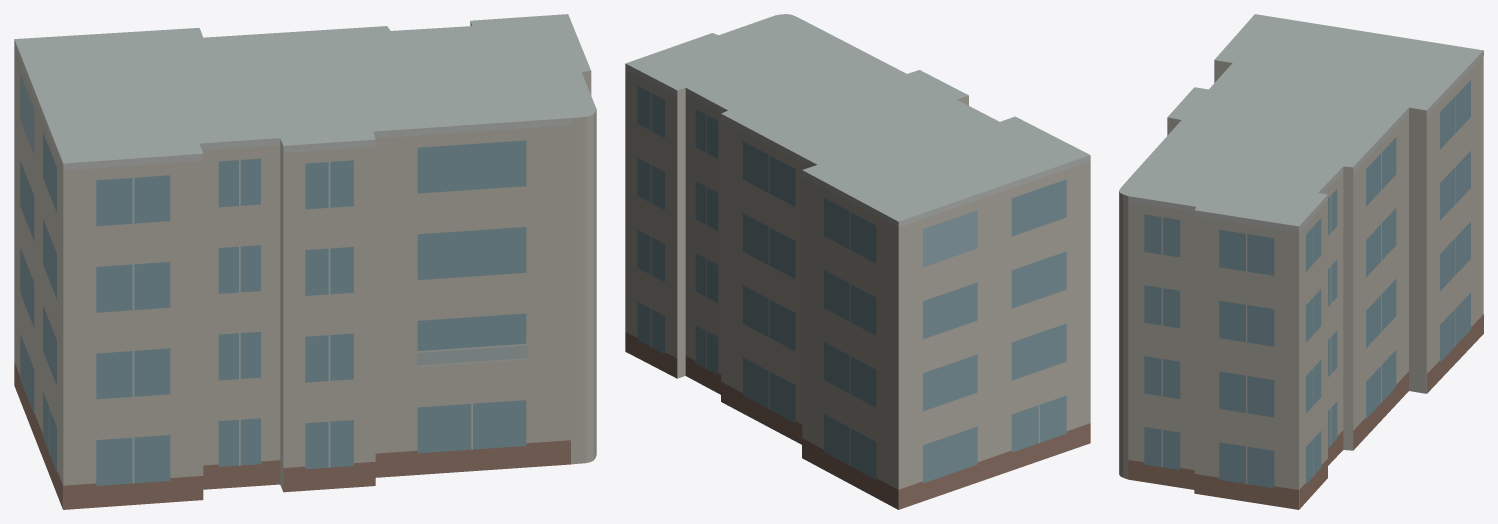
Rendered from survey-upis-32528418.glb.
3 renders of one model, left to right at view 1: azimuth 30°, elevation 25°; view 2: azimuth 150°, elevation 25°; view 3: azimuth 270°, elevation 25°, orthographic. The views are drawn at different scales.
Visible parts, largest first — view 1: survey-upis-32528418.tmp; view 2: survey-upis-32528418.tmp; view 3: survey-upis-32528418.tmp.
Part boxes in pixels (x1,y1,x2,y2): survey-upis-32528418.tmp: (14, 14, 596, 509); survey-upis-32528418.tmp: (625, 14, 1090, 509); survey-upis-32528418.tmp: (1119, 14, 1483, 509).
Size of the model in its own units: 18.85 by 11.72 by 13.67.
